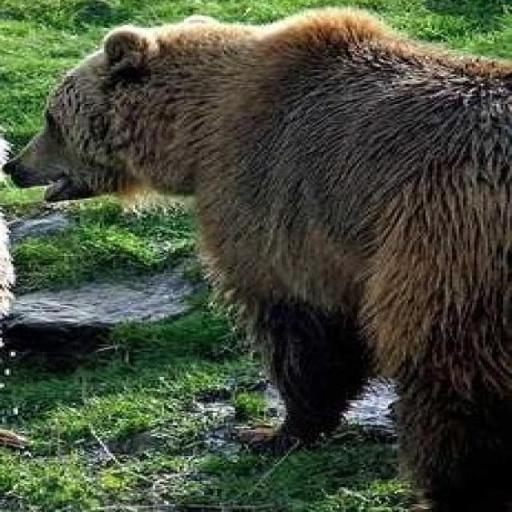Bear: (0, 5, 510, 510)
